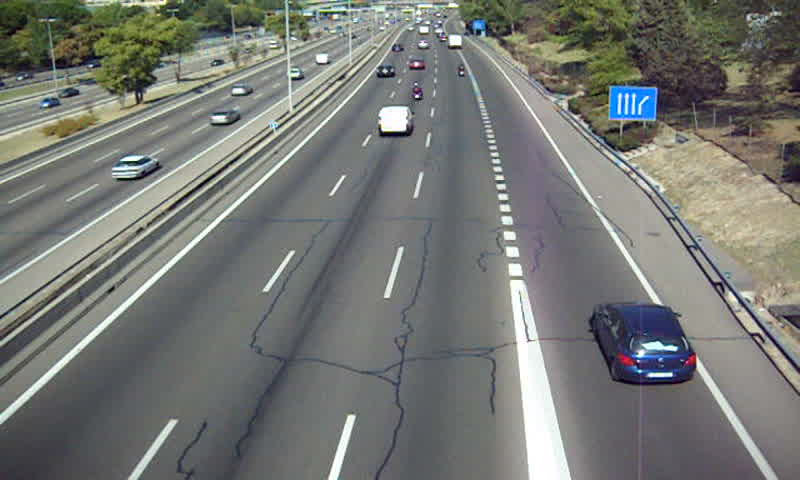car: (594, 304, 698, 383), (374, 64, 395, 79), (407, 60, 424, 72)
motorcycle: (410, 82, 424, 104), (457, 63, 467, 80)
van: (378, 107, 411, 137)
